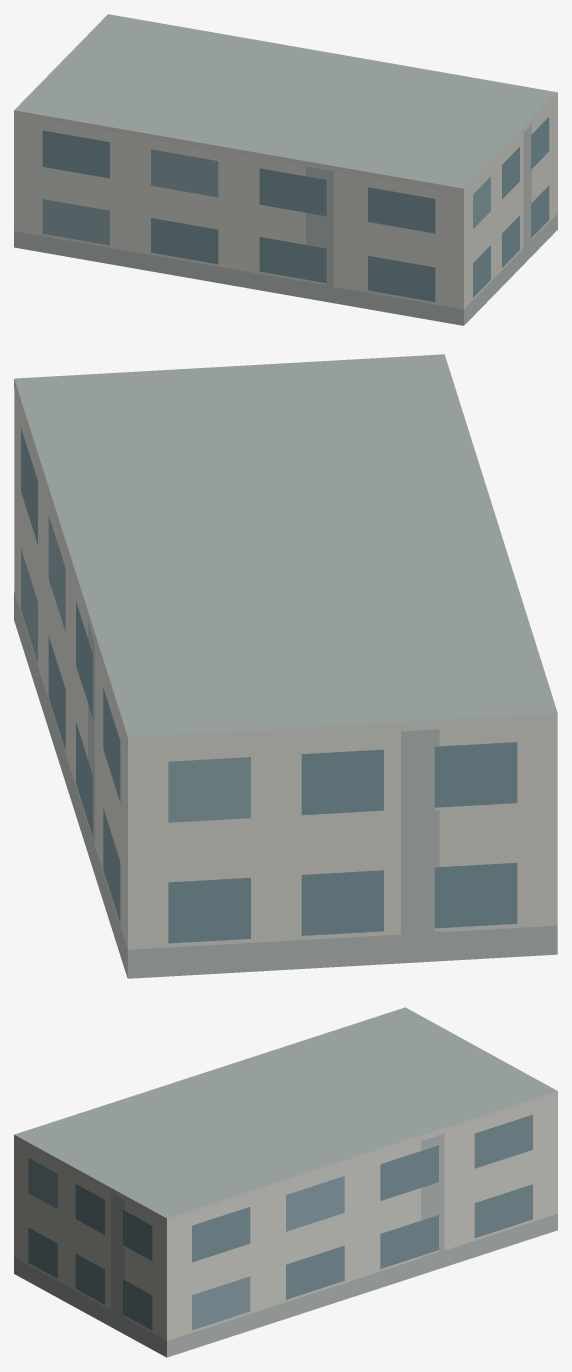
The model's file is residential-58ace2cd-b124-4e93-8293-aeb6b19dc146.glb.
3 views of the same model, one above another, from view 1: azimuth 30°, elevation 25°; view 2: azimuth 150°, elevation 25°; view 3: azimuth 270°, elevation 25° (orthographic). The views are drawn at different scales.
Parts seen in each view (by area): view 1: residential-58ace2cd-b124-4e93-8293-aeb6b19dc146.tmp; view 2: residential-58ace2cd-b124-4e93-8293-aeb6b19dc146.tmp; view 3: residential-58ace2cd-b124-4e93-8293-aeb6b19dc146.tmp.
Boxes of the visible parts, left/top/right/bottom form: residential-58ace2cd-b124-4e93-8293-aeb6b19dc146.tmp: left=14, top=14, right=557, bottom=325; residential-58ace2cd-b124-4e93-8293-aeb6b19dc146.tmp: left=14, top=354, right=557, bottom=978; residential-58ace2cd-b124-4e93-8293-aeb6b19dc146.tmp: left=14, top=1007, right=557, bottom=1357.
Bounding box in the file's own units: 19.85 × 6.1 × 21.61.
